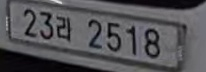23라2518: (21, 7, 164, 60)
